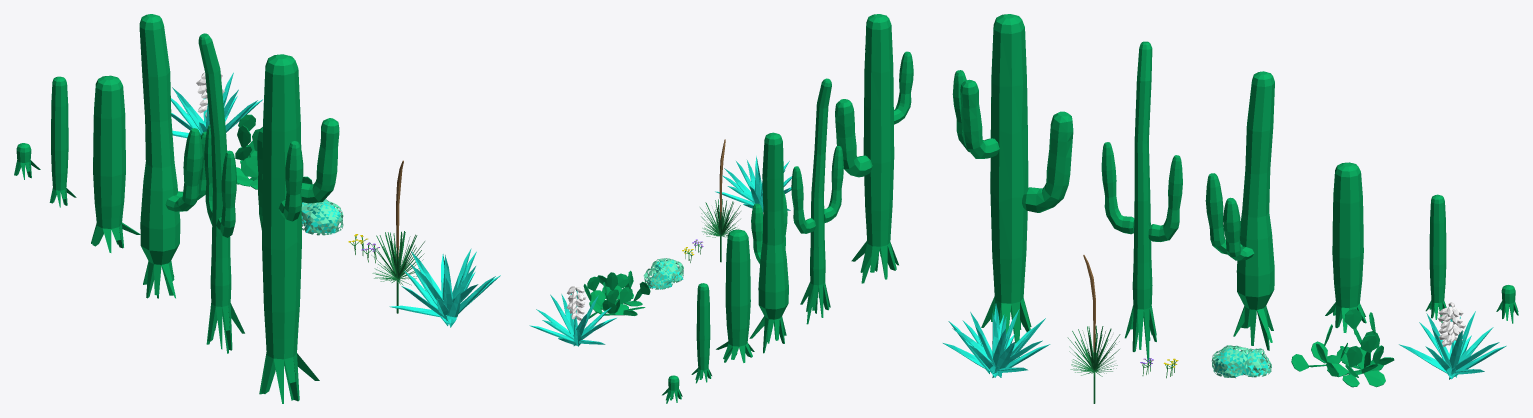
File: Desert Flora Pack.fbx
The picture shows the model from 3 angles, left to right: view 1: azimuth 30°, elevation 25°; view 2: azimuth 150°, elevation 25°; view 3: azimuth 270°, elevation 25°; orthographic projection. The views are drawn at different scales.
Parts seen in each view (by area): view 1: SeguaroCactusLarge3_LOD0, SeguaroCactusLarge1_LOD0, SeguaroCactusLarge2_LOD0, SeguaroCactusMedium2_LOD0, Agave_LOD0, SeguaroCactusMedium1_LOD0, Yucca_LOD0, DesertSpoon_LOD0, PricklyPearCactus_LOD0, WrightBuckwheat_LOD0, SeguaroCactusSmall_LOD0; view 2: SeguaroCactusLarge3_LOD0, SeguaroCactusLarge1_LOD0, SeguaroCactusLarge2_LOD0, SeguaroCactusMedium2_LOD0, PricklyPearCactus_LOD0, Yucca_LOD0, SeguaroCactusMedium1_LOD0, Agave_LOD0, DesertSpoon_LOD0, WrightBuckwheat_LOD0; view 3: SeguaroCactusLarge3_LOD0, SeguaroCactusLarge1_LOD0, SeguaroCactusLarge2_LOD0, SeguaroCactusMedium2_LOD0, PricklyPearCactus_LOD0, Yucca_LOD0, Agave_LOD0, SeguaroCactusMedium1_LOD0, WrightBuckwheat_LOD0, DesertSpoon_LOD0.
Boxes of the visible parts, bbox=[...] form: SeguaroCactusLarge3_LOD0: bbox=[257, 54, 339, 403]; SeguaroCactusLarge1_LOD0: bbox=[139, 14, 206, 298]; SeguaroCactusLarge2_LOD0: bbox=[198, 33, 244, 353]; SeguaroCactusMedium2_LOD0: bbox=[91, 75, 140, 252]; Agave_LOD0: bbox=[389, 248, 500, 327]; SeguaroCactusMedium1_LOD0: bbox=[49, 76, 76, 207]; Yucca_LOD0: bbox=[171, 72, 262, 138]; DesertSpoon_LOD0: bbox=[369, 160, 424, 313]; PricklyPearCactus_LOD0: bbox=[235, 114, 312, 189]; WrightBuckwheat_LOD0: bbox=[301, 199, 343, 235]; SeguaroCactusSmall_LOD0: bbox=[14, 143, 40, 179]; SeguaroCactusLarge3_LOD0: bbox=[835, 14, 913, 283]; SeguaroCactusLarge1_LOD0: bbox=[749, 132, 788, 353]; SeguaroCactusLarge2_LOD0: bbox=[791, 78, 843, 324]; SeguaroCactusMedium2_LOD0: bbox=[716, 229, 754, 362]; PricklyPearCactus_LOD0: bbox=[583, 270, 650, 318]; Yucca_LOD0: bbox=[529, 286, 616, 346]; SeguaroCactusMedium1_LOD0: bbox=[691, 283, 711, 383]; Agave_LOD0: bbox=[715, 156, 791, 211]; DesertSpoon_LOD0: bbox=[700, 139, 740, 262]; WrightBuckwheat_LOD0: bbox=[643, 258, 683, 289]; SeguaroCactusLarge3_LOD0: bbox=[952, 14, 1073, 357]; SeguaroCactusLarge1_LOD0: bbox=[1205, 71, 1274, 350]; SeguaroCactusLarge2_LOD0: bbox=[1101, 41, 1182, 361]; SeguaroCactusMedium2_LOD0: bbox=[1325, 162, 1366, 334]; PricklyPearCactus_LOD0: bbox=[1291, 308, 1394, 387]; Yucca_LOD0: bbox=[1399, 302, 1506, 379]; Agave_LOD0: bbox=[943, 303, 1050, 377]; SeguaroCactusMedium1_LOD0: bbox=[1425, 194, 1446, 322]; WrightBuckwheat_LOD0: bbox=[1211, 345, 1271, 378]; DesertSpoon_LOD0: bbox=[1067, 255, 1120, 403].
Size of what is drawn, in the model's own units: 439 by 630 by 976.
